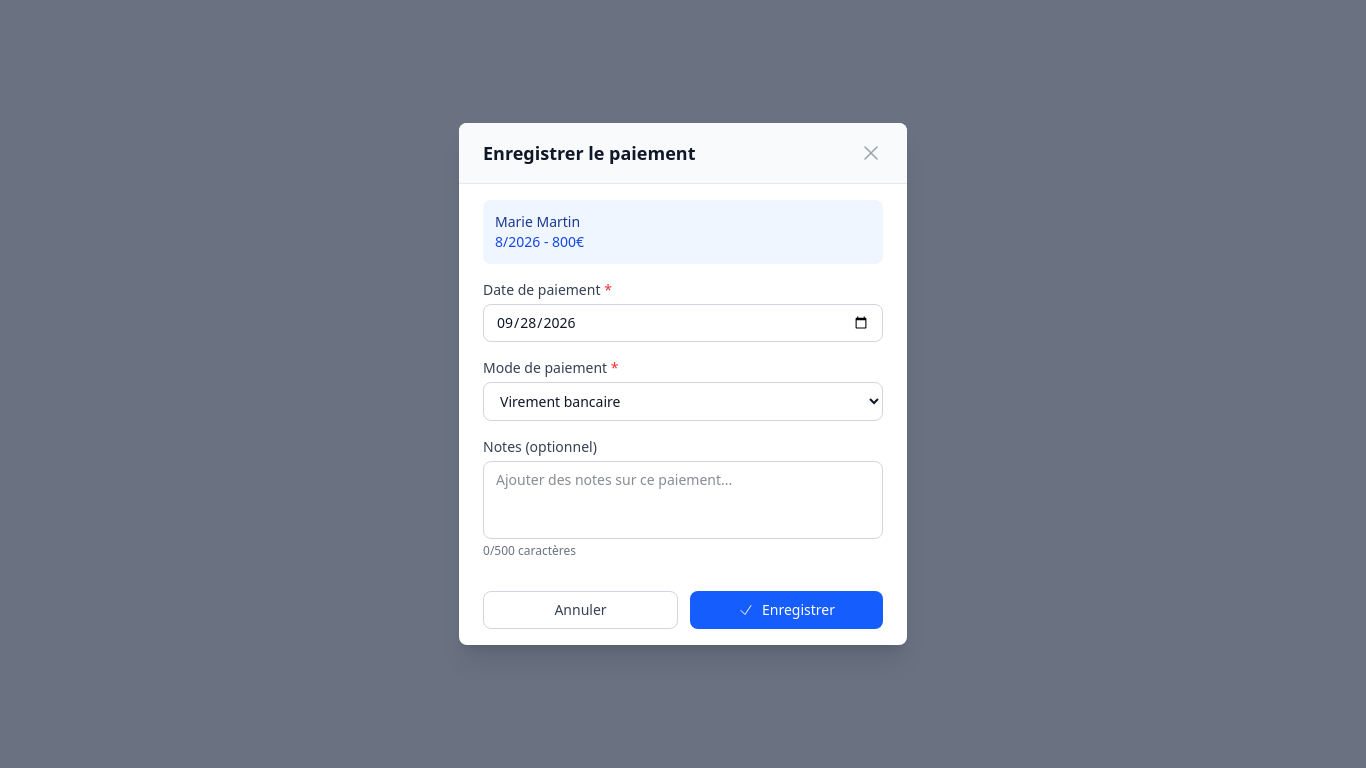
it: RecordPaymentModal dismissal › keeps the modal open when the dirty-form prompt is cancelled
Step 1. Type "Paiement partiel" into the text box labelled "Notes (optionnel)" → (683, 500), box [483,461,883,539]
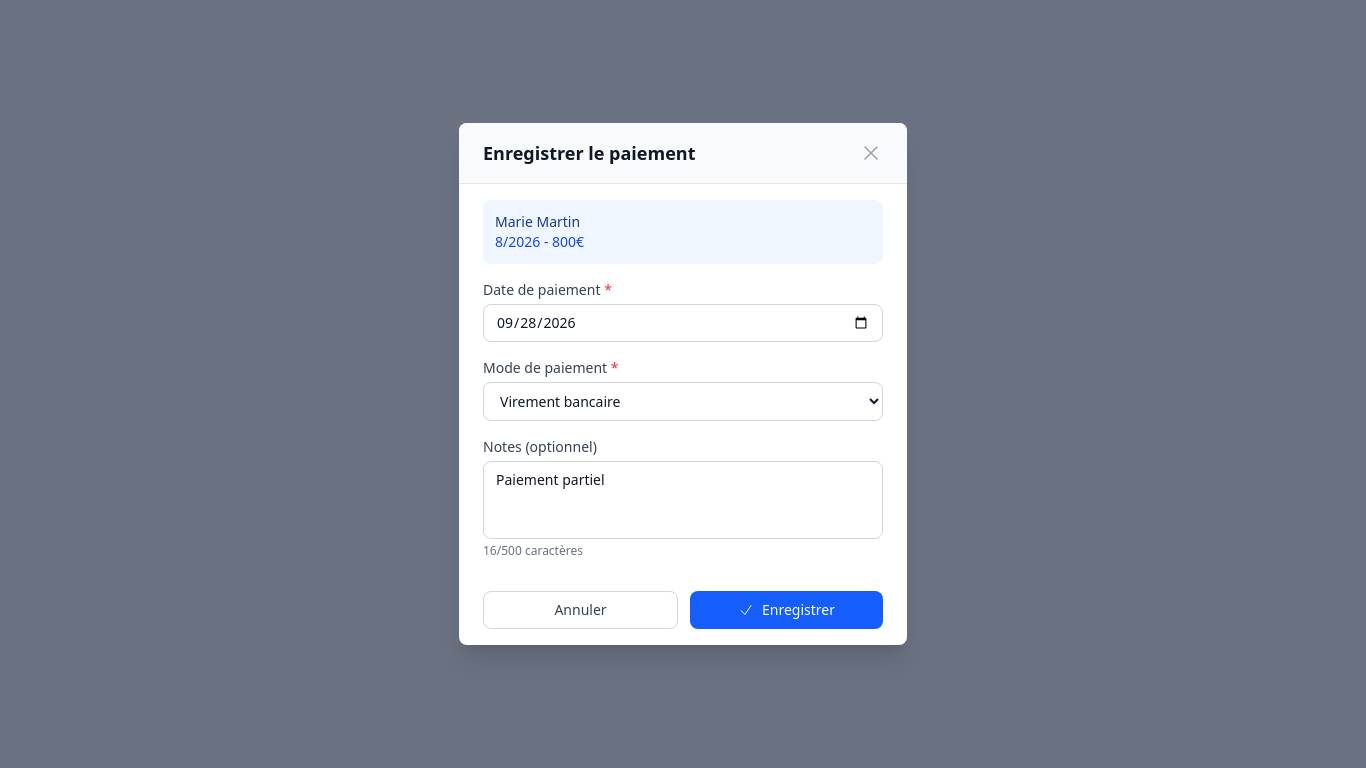
Step 2. Press Escape
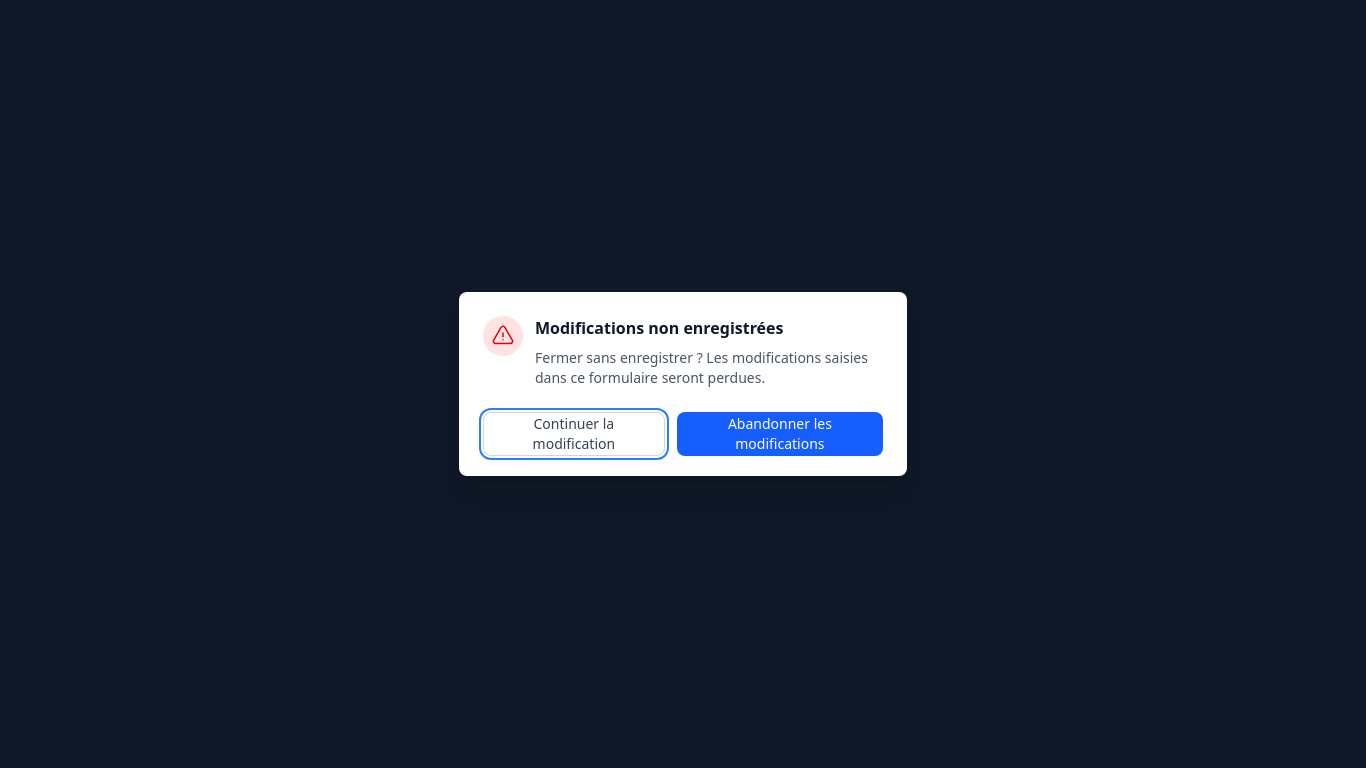
Step 3. Click the button "Continuer la modification" → (574, 434), box [483,412,665,456]
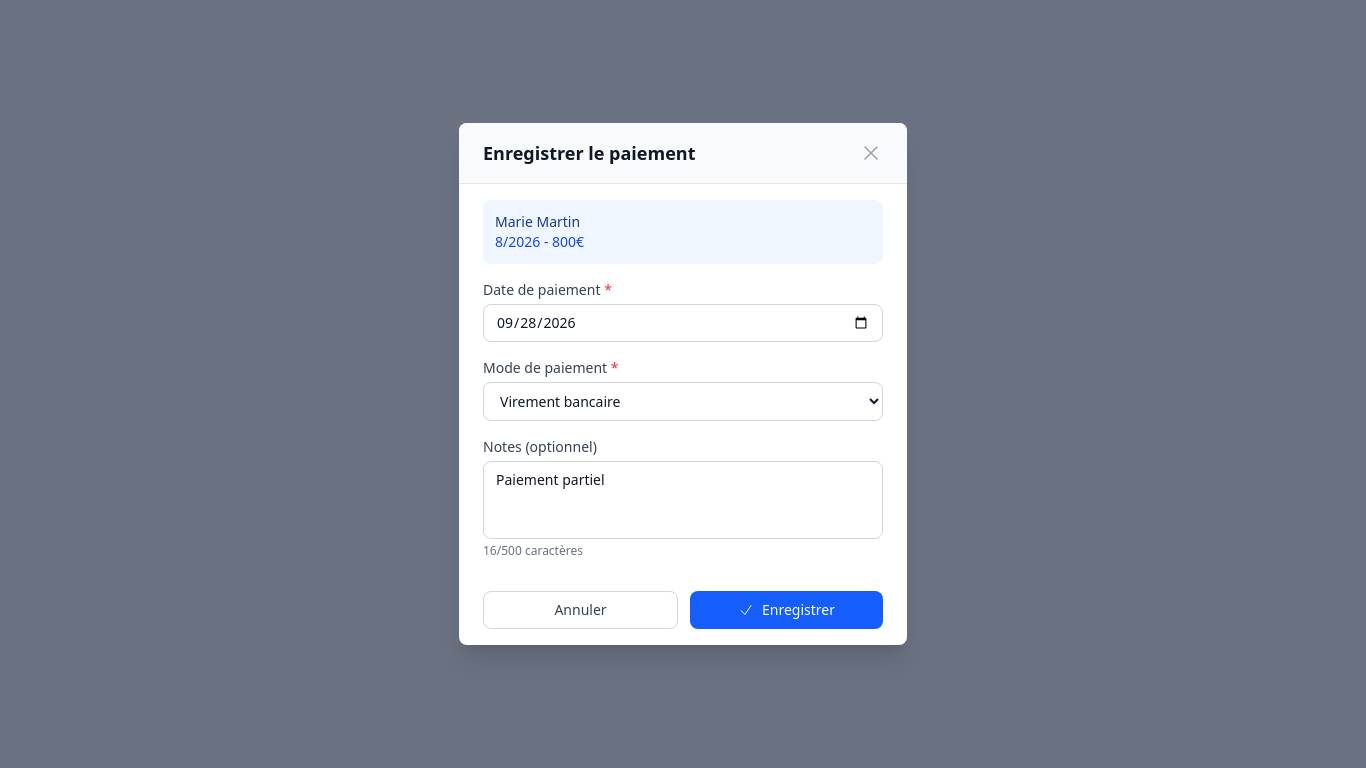
Result: the dialog with test id "confirm-dialog" is gone
